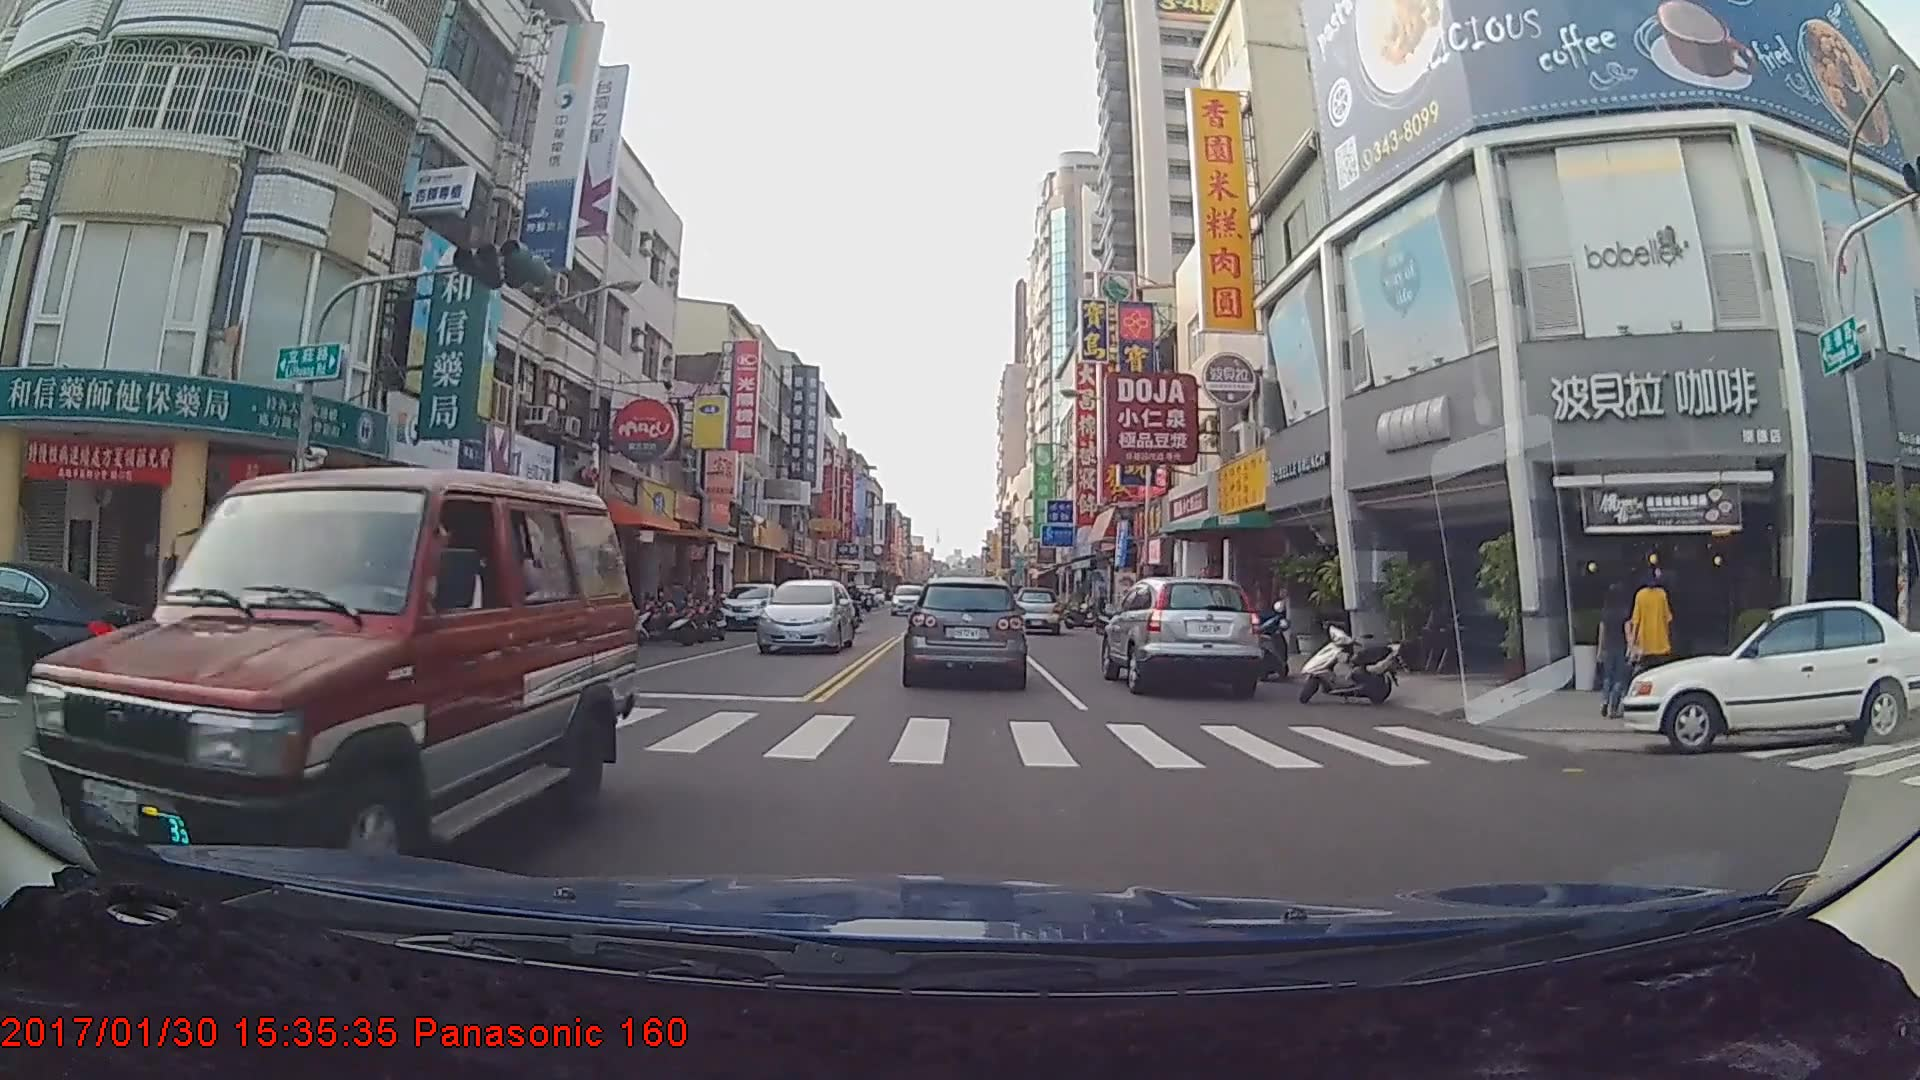pedestrian: (1592, 582, 1641, 724), (1630, 568, 1677, 692)
vehicle: (17, 464, 639, 913), (1621, 596, 1919, 755), (0, 558, 143, 700), (1101, 572, 1263, 696), (906, 574, 1025, 685), (756, 576, 858, 655), (718, 580, 778, 629), (1010, 586, 1061, 634), (889, 583, 926, 616)
